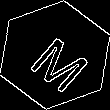M_NE: (19, 21, 91, 89)
